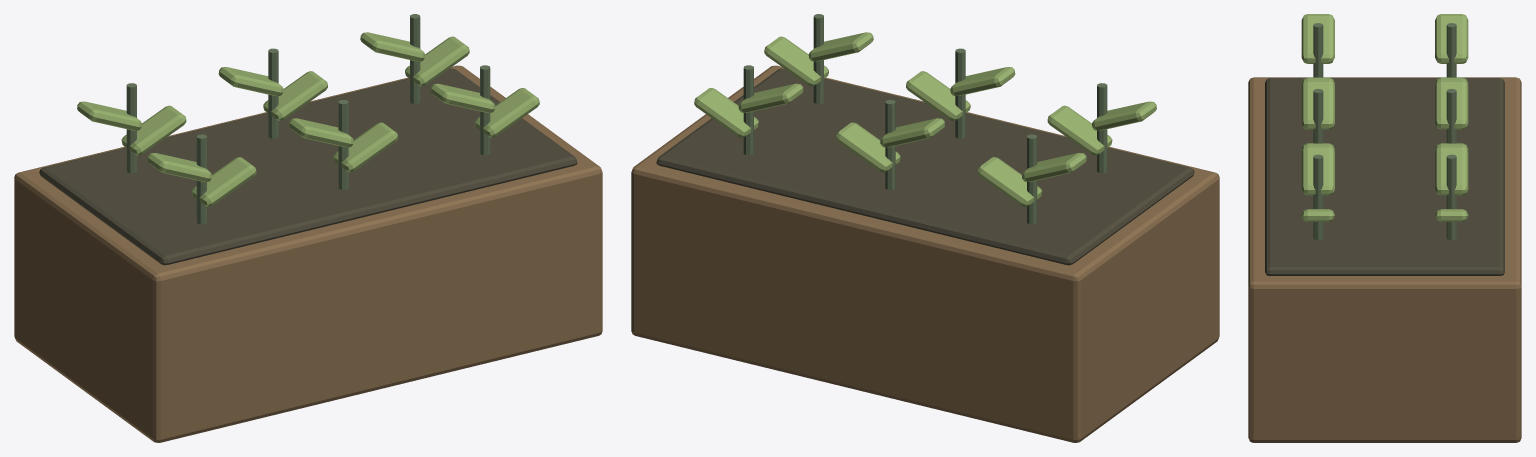
Rendered from planter.glb.
The picture shows the model from 3 angles, left to right: view 1: azimuth 30°, elevation 25°; view 2: azimuth 150°, elevation 25°; view 3: azimuth 270°, elevation 25°; orthographic projection. The views are drawn at different scales.
Parts seen in each view (by area): view 1: raised_bed, soil, leaf.004, leaf.006, leaf.002, leaf.010, leaf.008, leaf, leaf.011, leaf.009, leaf.003, leaf.005 (+8 smaller); view 2: raised_bed, soil, leaf.006, leaf.004, leaf, leaf.008, leaf.010, leaf.002, leaf.009, leaf.011, leaf.001, leaf.007 (+8 smaller); view 3: raised_bed, soil, leaf.009, leaf.011, leaf.005, leaf.007, leaf.001, leaf.003, stalk.004, stalk.005, stalk.002, stalk.003 (+4 smaller).
Part boxes in pixels (x1,y1,x2,y2): raised_bed: (14,65,602,442); soil: (39,68,577,265); leaf.004: (333,122,398,172); leaf.006: (263,71,327,120); leaf.002: (121,105,186,155); leaf.010: (405,36,469,86); leaf.008: (475,88,539,137); leaf: (191,157,256,206); leaf.011: (360,32,425,61); leaf.009: (430,83,495,112); leaf.003: (77,101,141,130); leaf.005: (289,118,353,147); raised_bed: (631,65,1219,442); soil: (656,68,1194,265); leaf.006: (835,122,900,172); leaf.004: (906,71,970,120); leaf: (1047,105,1112,155); leaf.008: (764,36,828,86); leaf.010: (694,88,758,137); leaf.002: (977,157,1042,206); leaf.009: (808,32,873,61); leaf.011: (738,83,803,112); leaf.001: (1092,101,1156,130); leaf.007: (880,118,944,147); raised_bed: (1248,77,1521,442); soil: (1265,78,1504,275); leaf.009: (1301,145,1334,195); leaf.011: (1435,145,1468,195); leaf.005: (1301,79,1334,129); leaf.007: (1435,79,1468,129); leaf.001: (1301,14,1334,63); leaf.003: (1435,14,1468,63); stalk.004: (1313,154,1323,240); stalk.005: (1446,154,1456,240); stalk.002: (1313,88,1323,143); stalk.003: (1446,88,1456,143).
Size of the model in its own units: 2.22 by 1.24 by 1.23.
